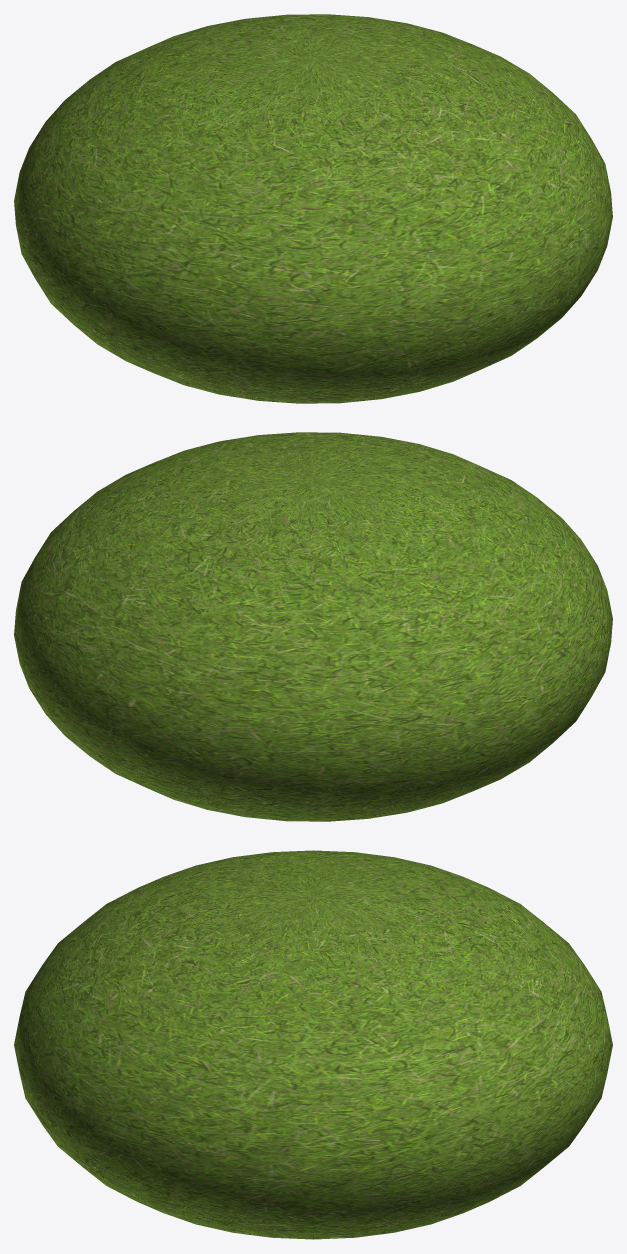
Rendered from Hill.fbx.
The picture shows the model from 3 angles, top to bottom: view 1: azimuth 30°, elevation 25°; view 2: azimuth 150°, elevation 25°; view 3: azimuth 270°, elevation 25°; orthographic projection.
Visible parts, largest first — view 1: Sphere001; view 2: Sphere001; view 3: Sphere001.
Boxes of the visible parts, left/top/right/bottom form: Sphere001: left=14, top=14, right=612, bottom=403; Sphere001: left=14, top=432, right=612, bottom=821; Sphere001: left=14, top=850, right=612, bottom=1239.
Size of the model in its own units: 69.96 by 38.28 by 69.96.
1 material, 1 textured.
